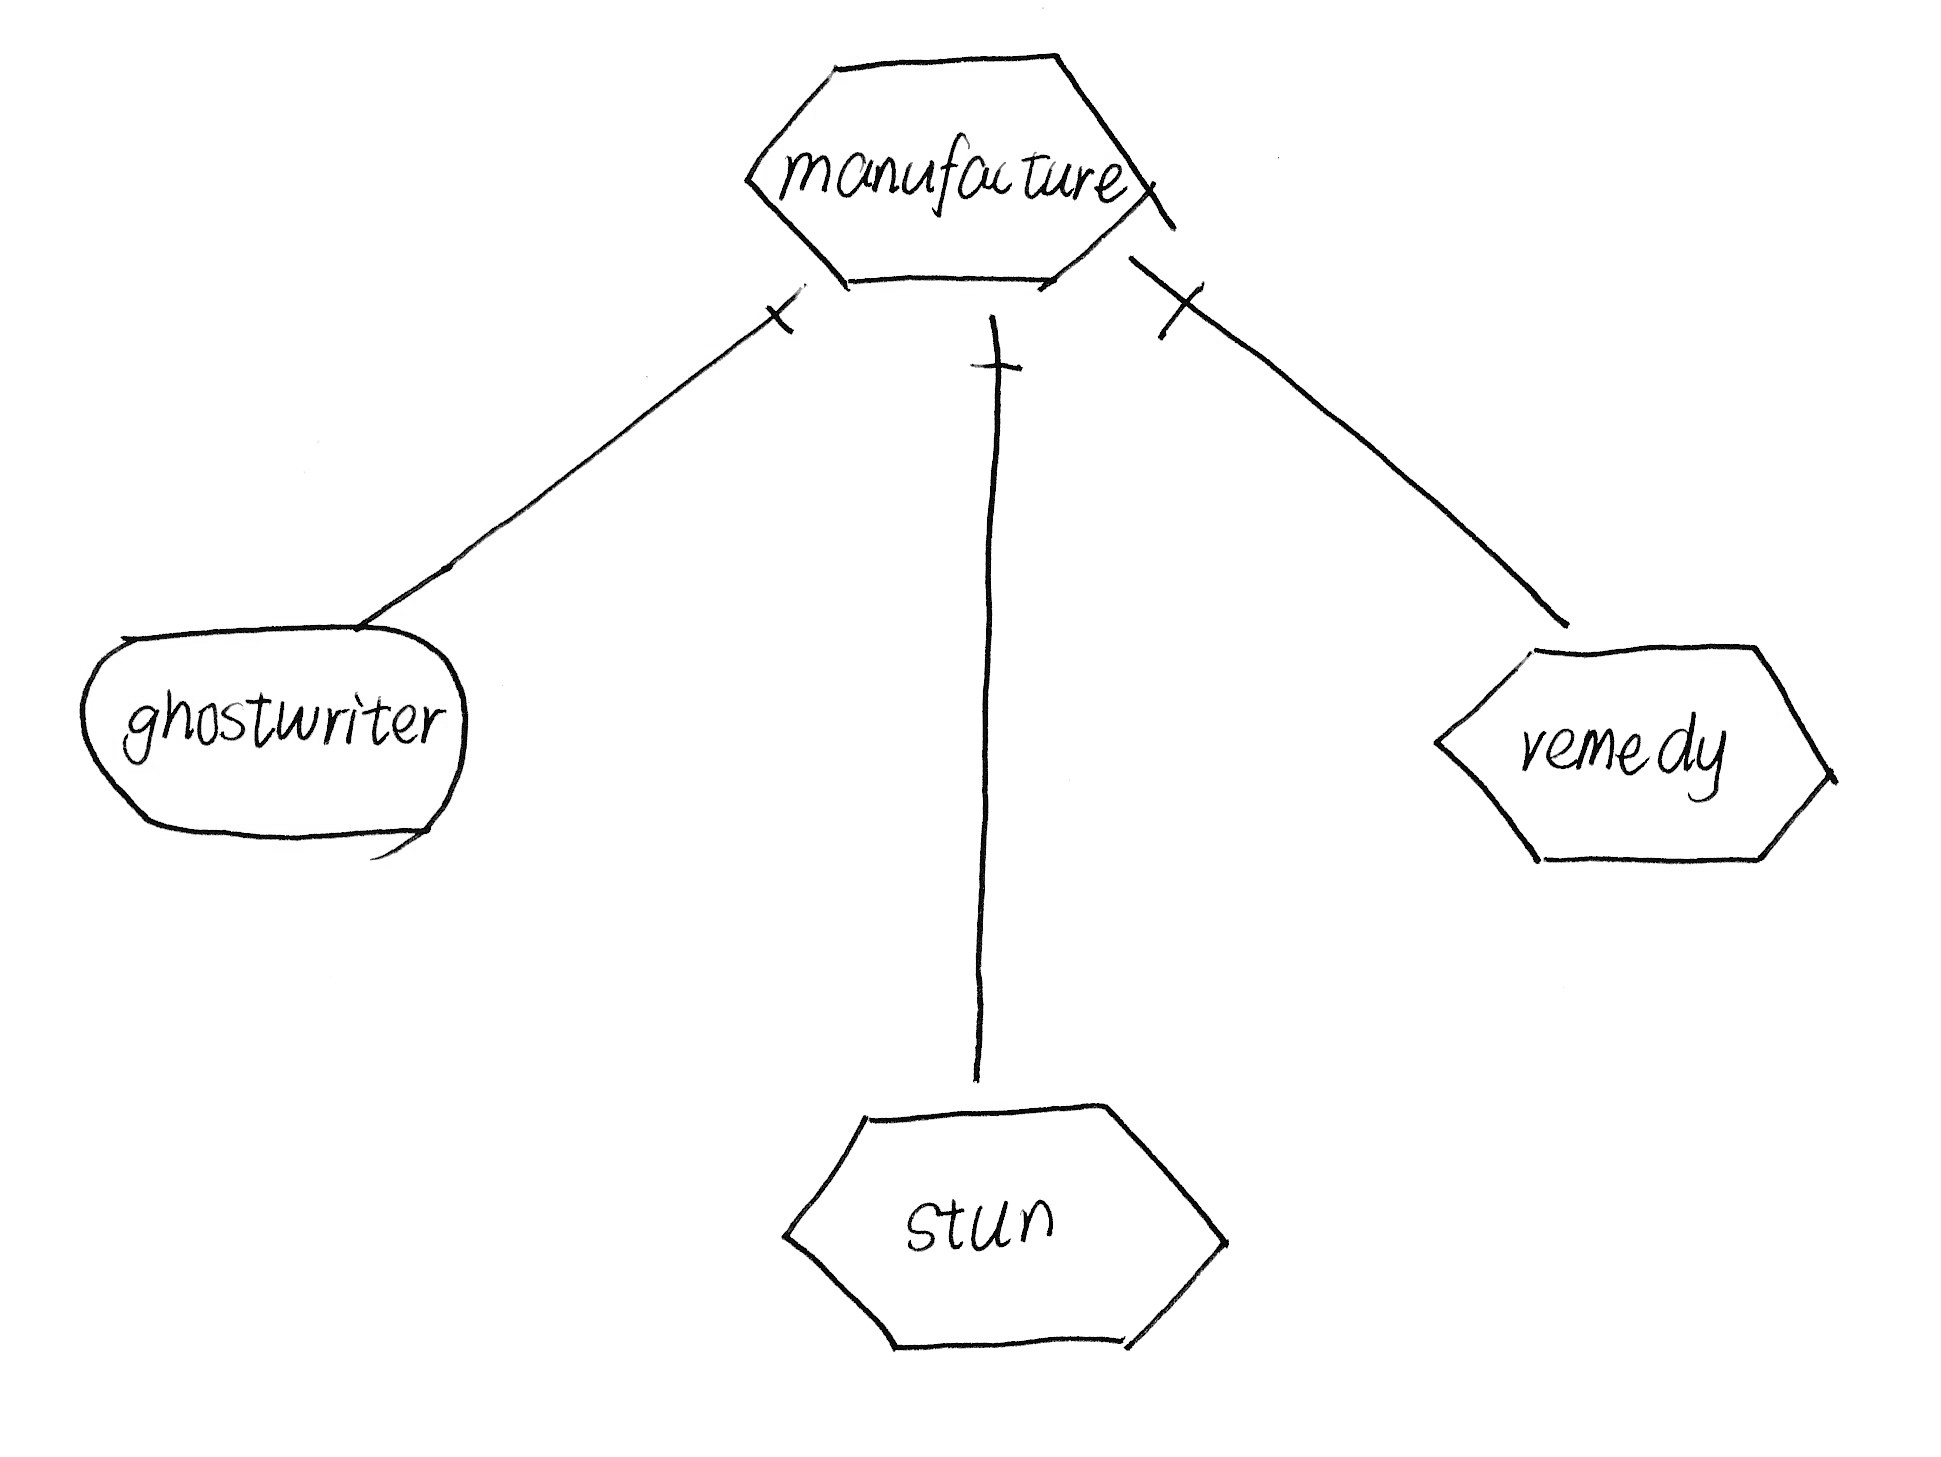and: (1121, 242, 1218, 354), (960, 305, 1038, 386), (758, 269, 811, 341)
goal: (57, 608, 485, 866)
task: (764, 1084, 1243, 1370), (732, 38, 1189, 311), (1421, 627, 1858, 882)
